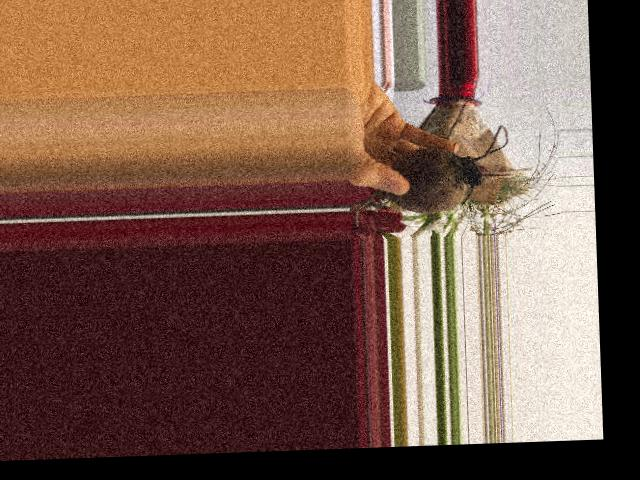beet: (353, 125, 511, 225)
